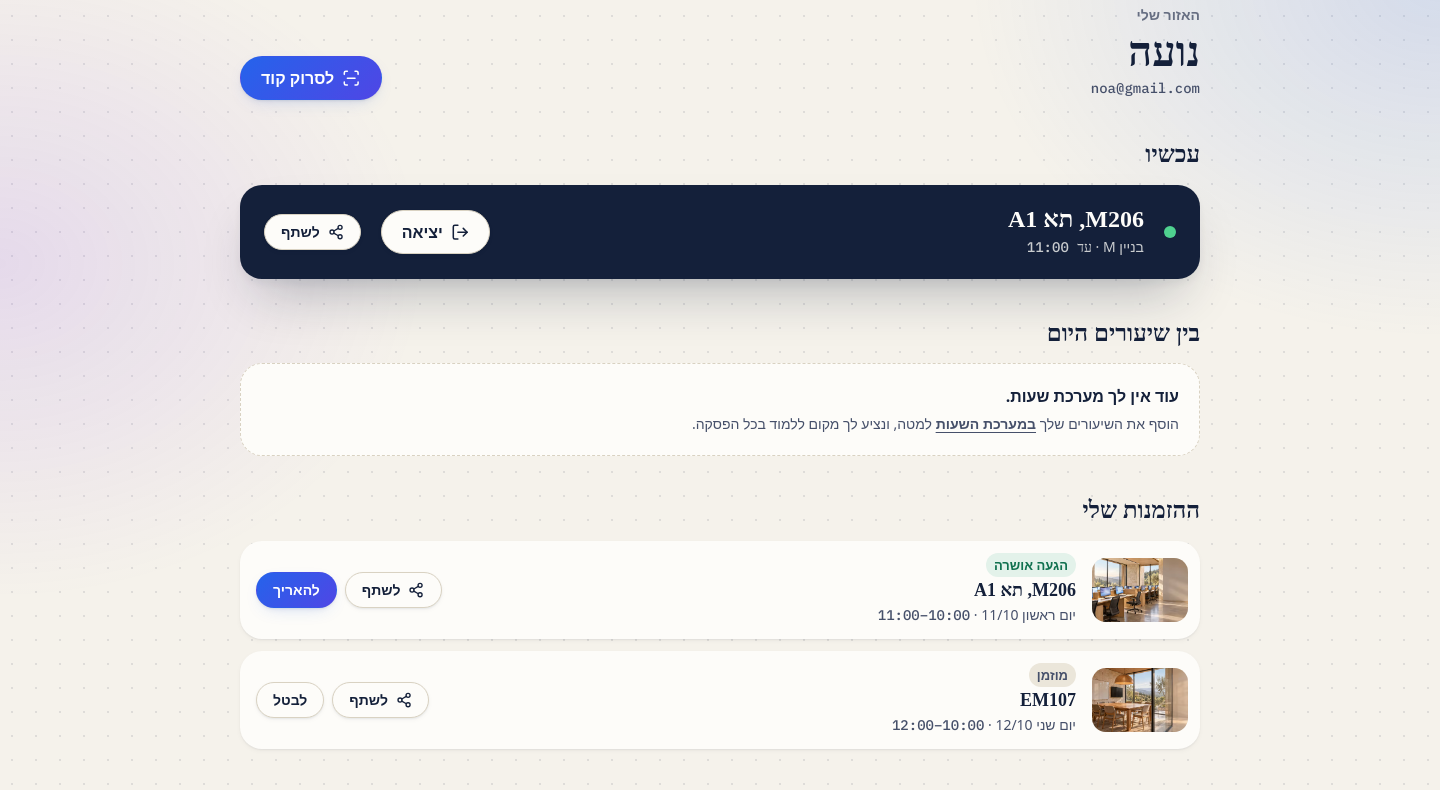
Test: MyPage › the choice can be closed, and a refused one offers what is free now
The image size is (1440, 790).
Click the button "להאריך" at [296, 590], box [256,572,337,608]
(page scrolled)
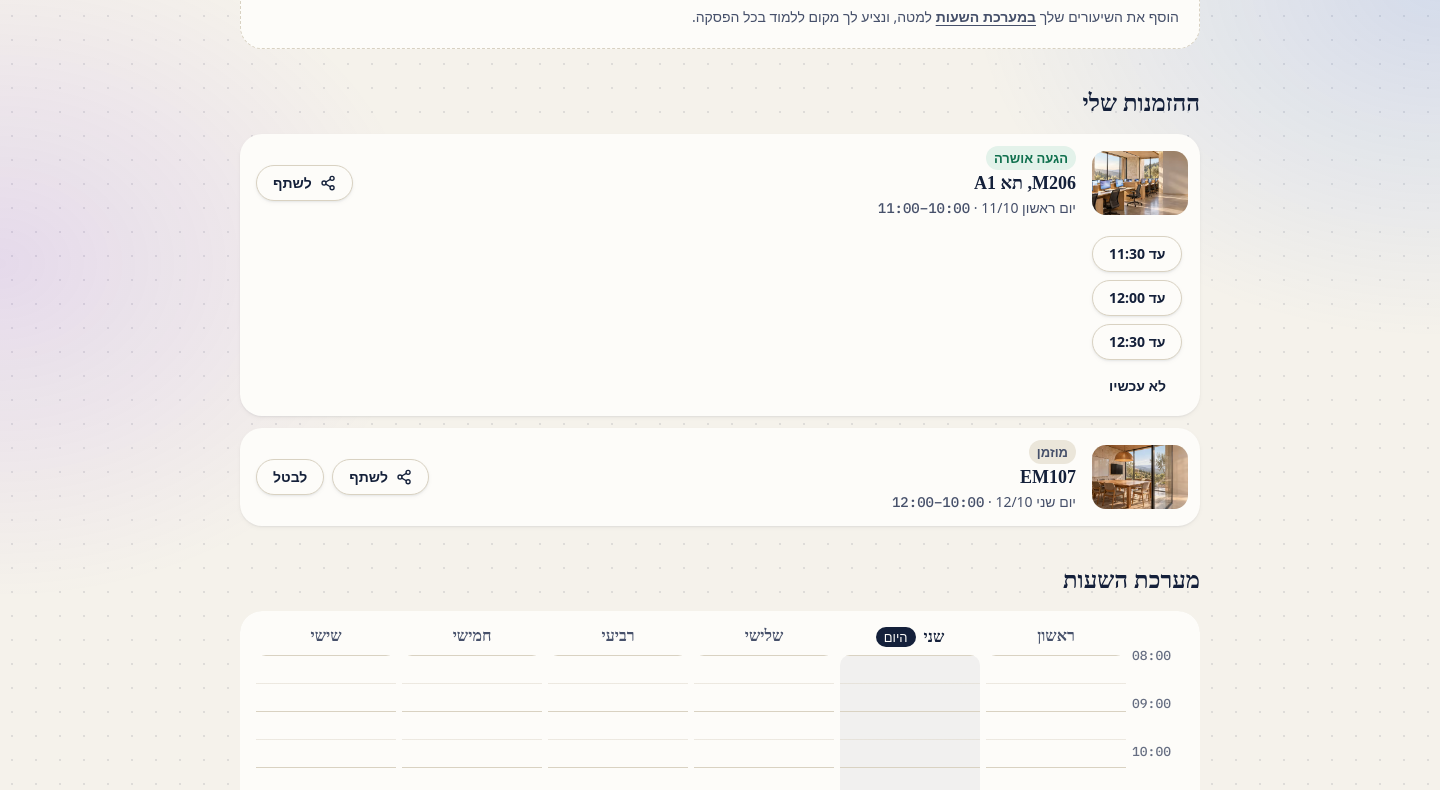
Click the button "לא עכשיו" at [1138, 386], box [1092,368,1183,404]
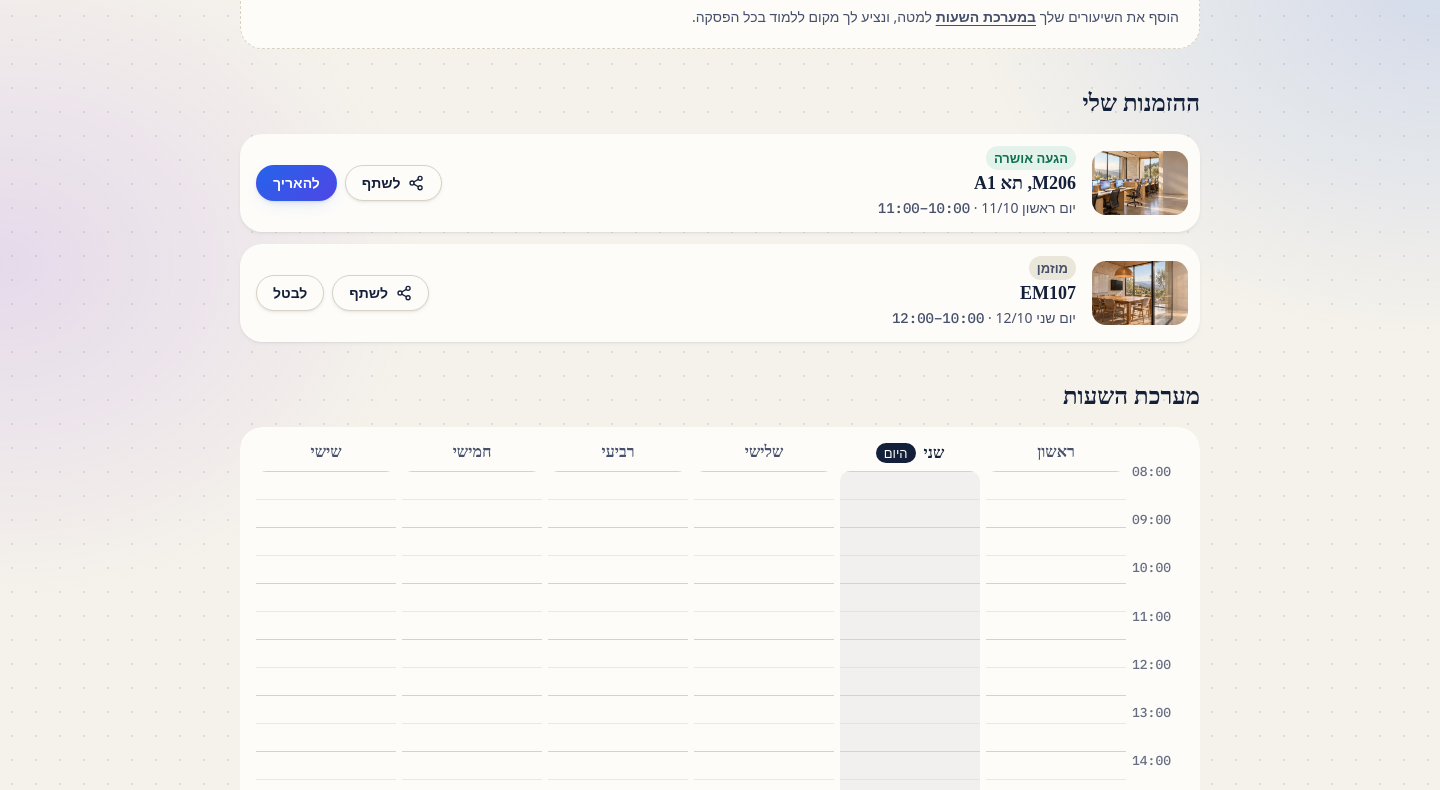
Click the button "להאריך" at [296, 183], box [256,165,337,201]
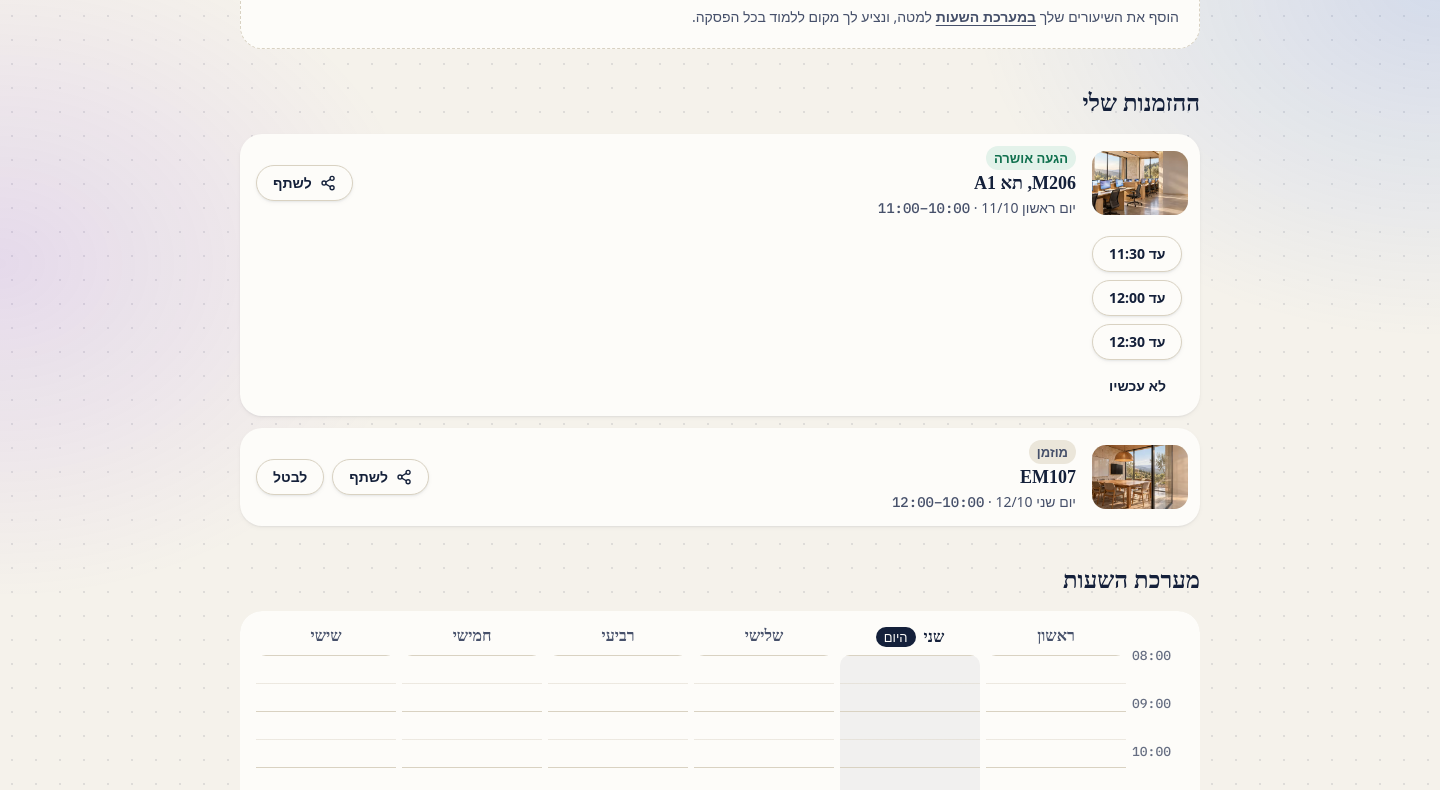
Click the button "עד 12:00" at [1137, 298], box [1092,280,1182,316]
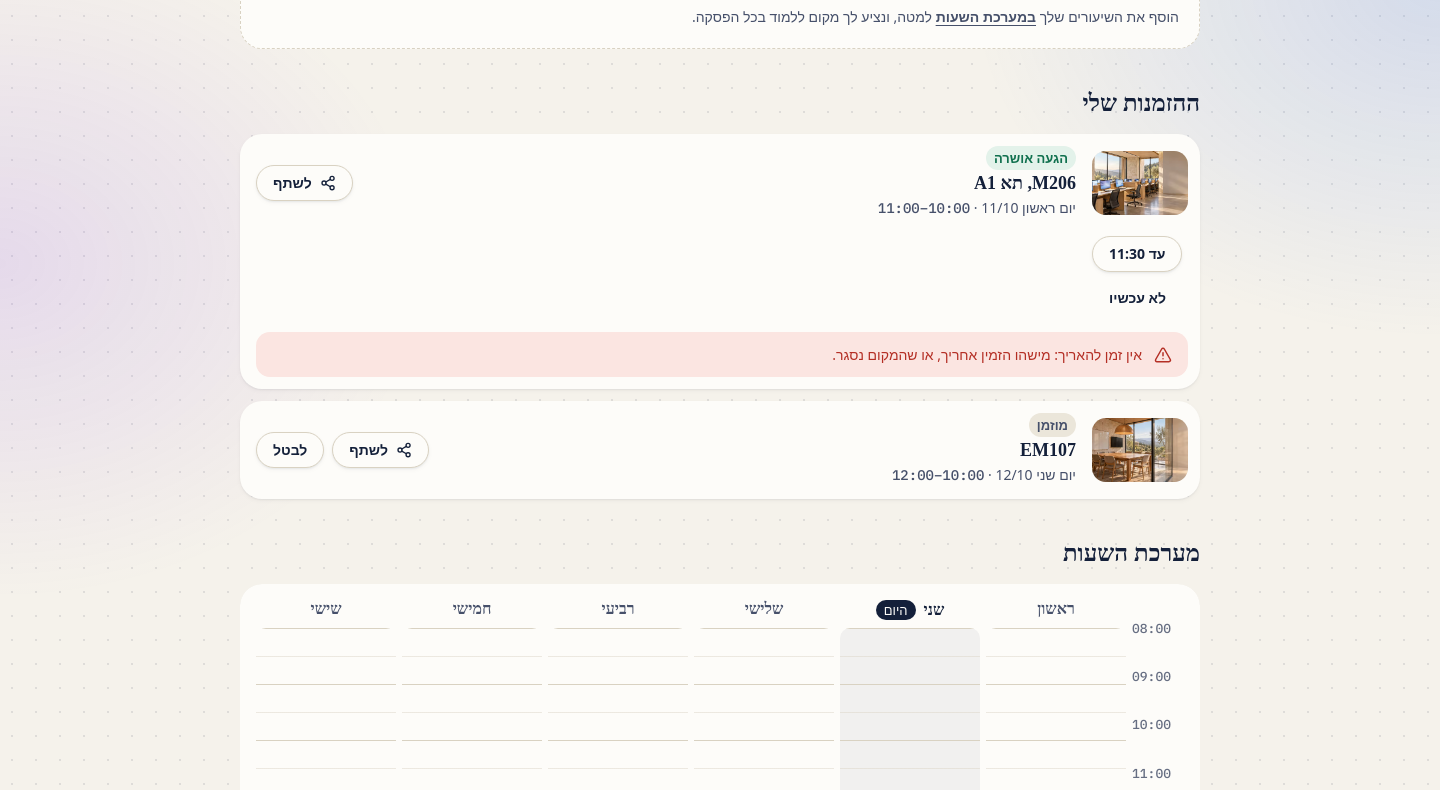
Now the buttons "עד " read "עד 11:30", in this order, box [1092,236,1182,272]
